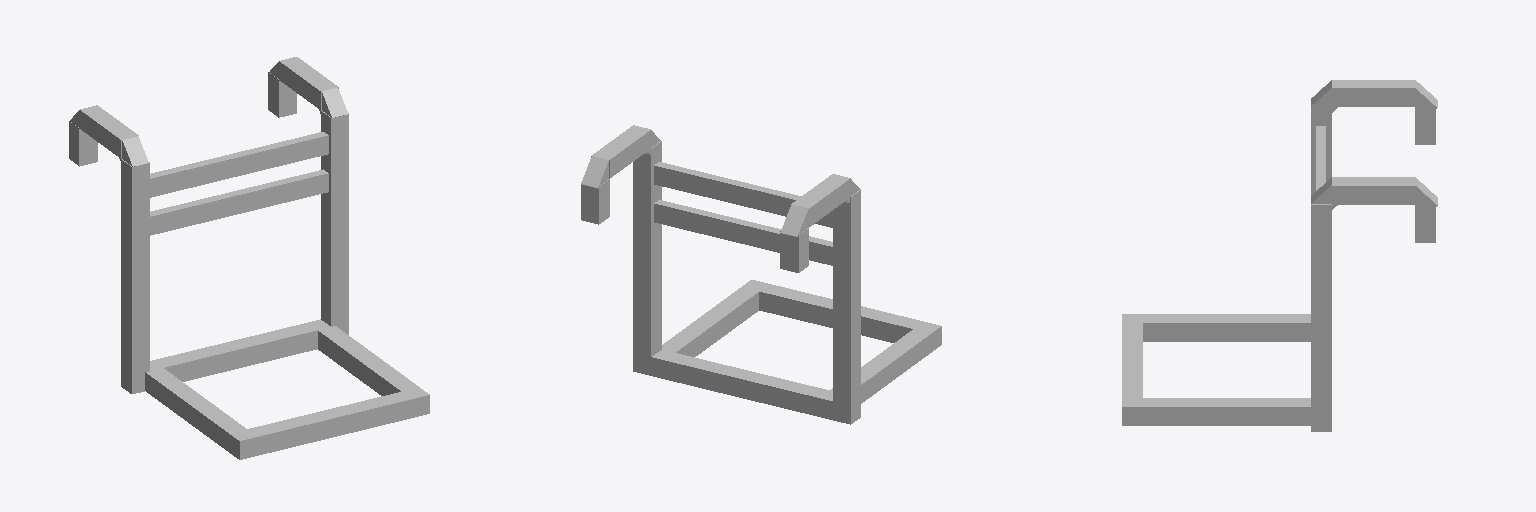
The model's file is wyvern_harness_empty.obj.
The picture shows the model from 3 angles: view 1: azimuth 30°, elevation 25°; view 2: azimuth 150°, elevation 25°; view 3: azimuth 270°, elevation 25°; orthographic projection.
Visible parts, largest first — view 1: main_frame, holder, cube; view 2: main_frame, holder, cube; view 3: holder, cube, main_frame.
Part boxes in pixels (left/top/right/bottom): main_frame: left=121, top=110, right=348, bottom=393; holder: left=145, top=326, right=429, bottom=459; cube: left=69, top=57, right=347, bottom=166; main_frame: left=633, top=141, right=860, bottom=424; holder: left=662, top=280, right=941, bottom=403; cube: left=581, top=125, right=859, bottom=272; holder: left=1122, top=314, right=1310, bottom=425; cube: left=1311, top=80, right=1437, bottom=242; main_frame: left=1311, top=107, right=1331, bottom=431.
Size of the model in its own units: 0.75 by 0.8125 by 0.9413.